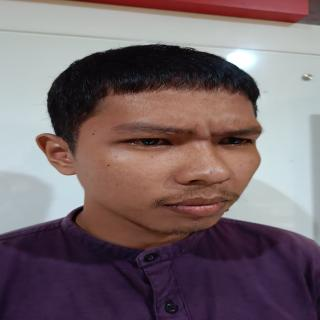Marah: (68, 74, 269, 242)
